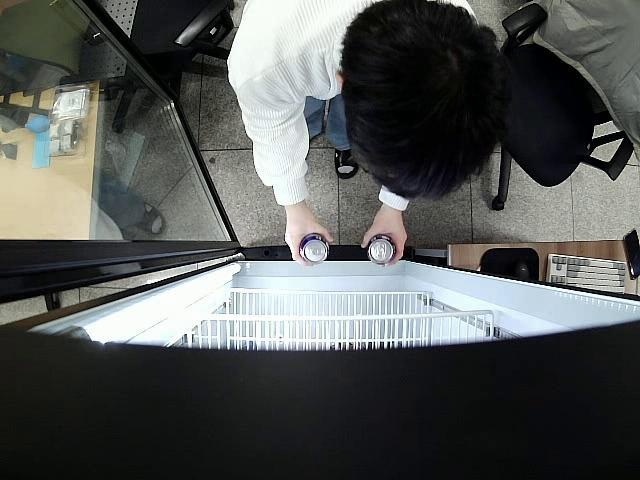14_welchsGrape: (300, 234, 330, 266), (368, 232, 397, 264)
